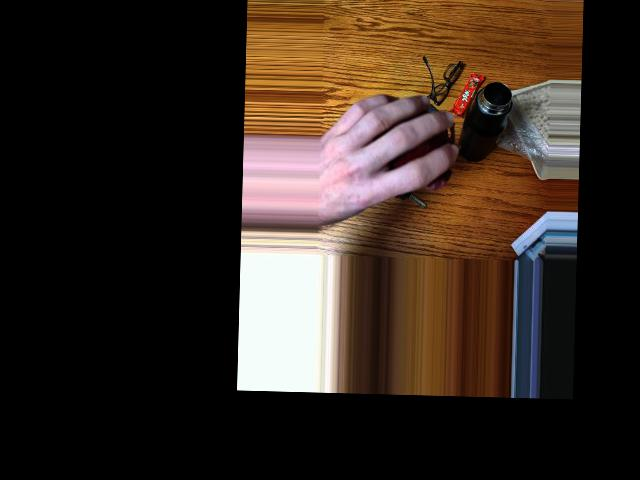onion: (373, 98, 441, 192)
